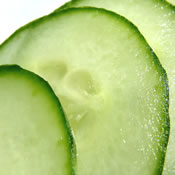cucumber: (0, 8, 171, 174), (53, 0, 174, 174), (0, 63, 78, 174)
